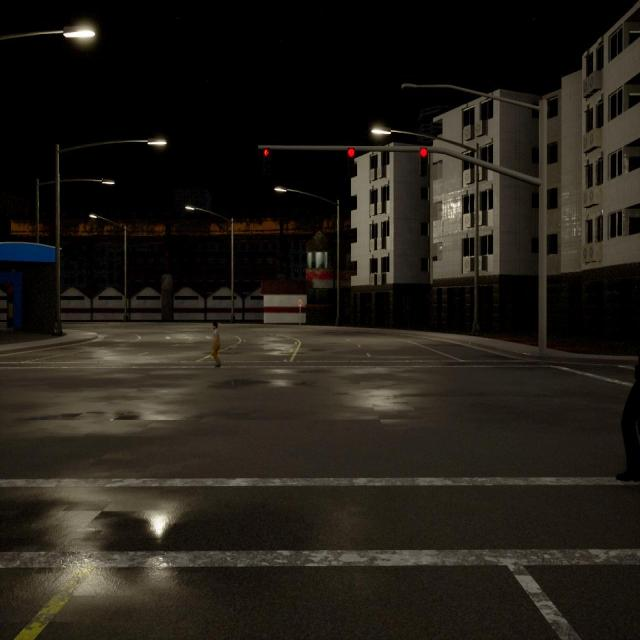Pedestrian: (617, 363, 640, 482), (212, 321, 220, 366)
Traffic_Signs: (298, 299, 302, 307)
traffic_light: (420, 147, 428, 175), (348, 148, 354, 174), (264, 148, 269, 168)
